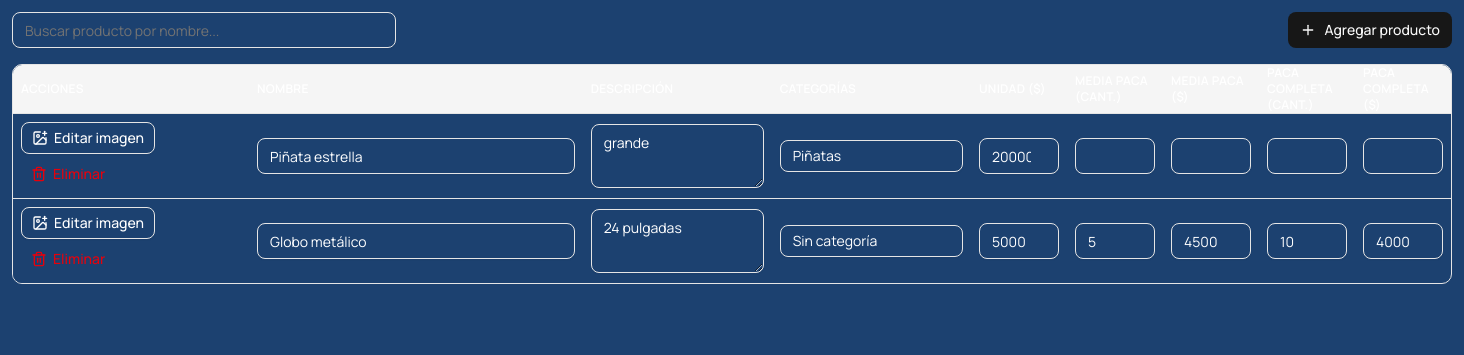
Test case: ProductEditorTable › shows an error banner when creating a product fails, without adding a row
Click the button "Agregar producto" at (1370, 30), box x1=1288 y1=12 x2=1452 y2=48
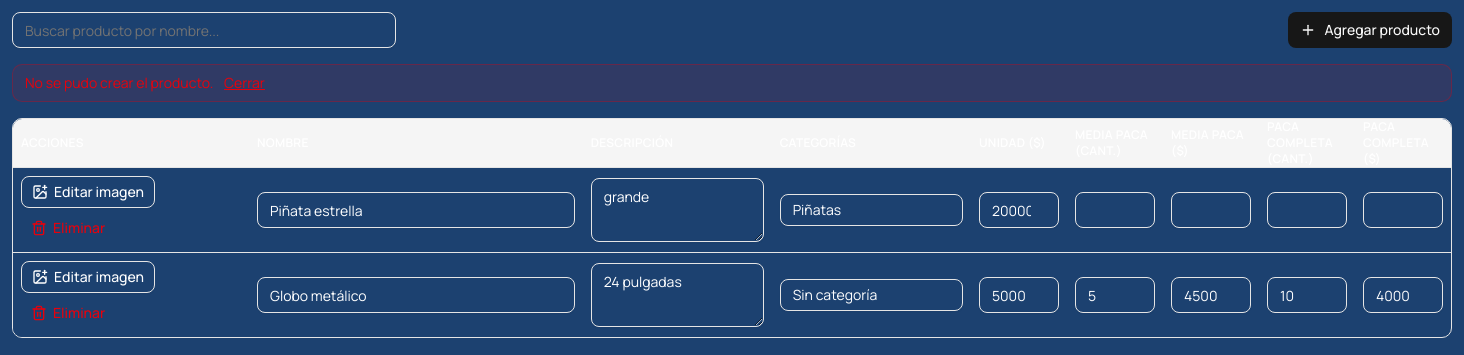
Expected: the element with test id "global-error-banner" shows "No se pudo crear el producto.", x1=25 y1=73 x2=213 y2=92
